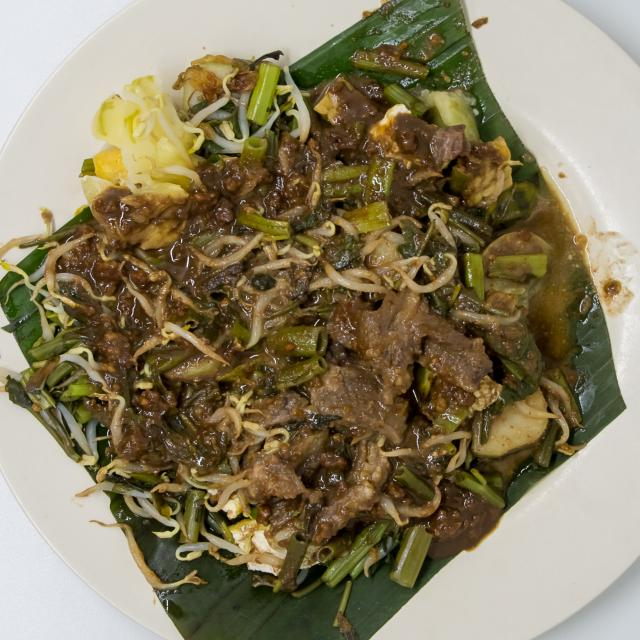Rujak-Cingur: (27, 48, 576, 580)
